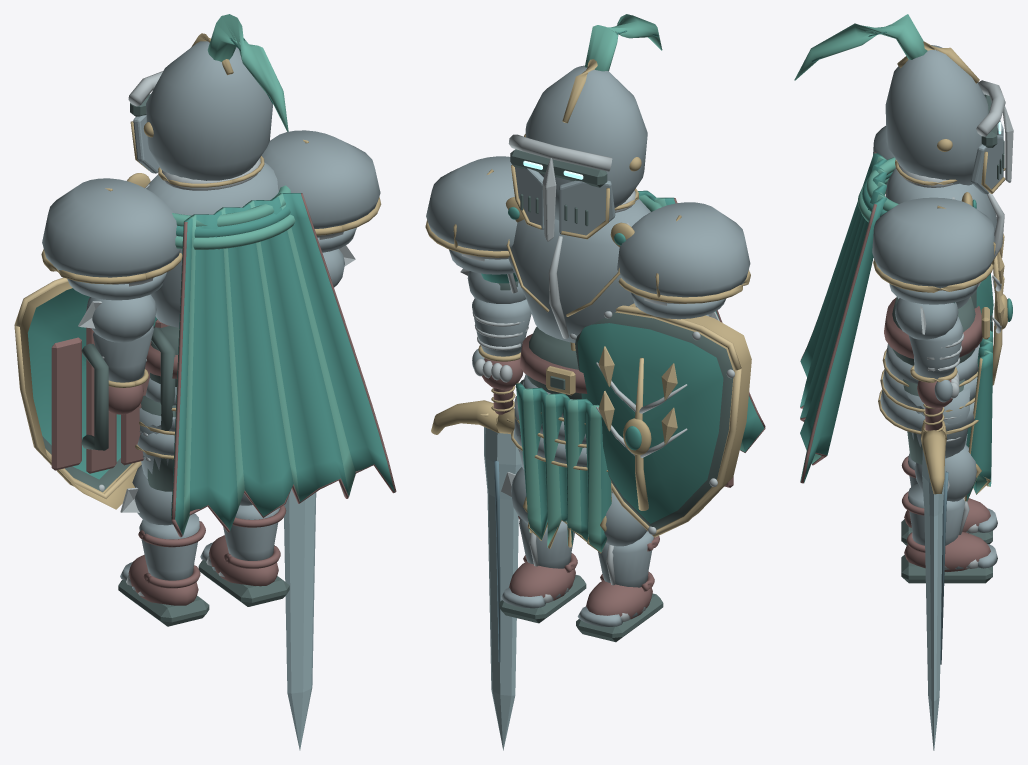
File: wayfarer.glb
3 renders of one model, left to right at view 1: azimuth 30°, elevation 25°; view 2: azimuth 150°, elevation 25°; view 3: azimuth 270°, elevation 25°, orthographic. The views are drawn at different scales.
Parts seen in each view (by area): view 1: Cape | crafted armor, Shield | crafted armor, Head | crafted armor, UpperArmL | crafted armor, Torso | crafted armor, UpperArmR | crafted armor, Moonsteel blade, ShinL | crafted armor, ForearmL | crafted armor, FootL | crafted armor, FootR | crafted armor, ShinR | crafted armor (+5 smaller); view 2: Shield | crafted armor, Head | crafted armor, UpperArmL | crafted armor, Torso | crafted armor, Tabard | crafted armor, UpperArmR | crafted armor, Moonsteel blade, Hips | crafted armor, ForearmR | crafted armor, ShinL | crafted armor, FootL | crafted armor, FootR | crafted armor (+5 smaller); view 3: Head | crafted armor, UpperArmR | crafted armor, Cape | crafted armor, Hips | crafted armor, ForearmR | crafted armor, Torso | crafted armor, Moonsteel blade, ShinR | crafted armor, FootR | crafted armor, Tabard | crafted armor, Plume | crafted armor, Sword | crafted armor (+5 smaller).
Part boxes in pixels (x1,y1,x2,y2): Cape | crafted armor: (171, 193, 396, 537); Shield | crafted armor: (14, 277, 175, 509); Head | crafted armor: (128, 33, 272, 180); UpperArmL | crafted armor: (41, 178, 182, 300); Torso | crafted armor: (127, 156, 295, 327); UpperArmR | crafted armor: (261, 130, 381, 252); Moonsteel blade: (284, 489, 316, 750); ShinL | crafted armor: (120, 465, 205, 588); ForearmL | crafted armor: (78, 294, 156, 387); FootL | crafted armor: (118, 554, 209, 626); FootR | crafted armor: (198, 535, 289, 606); ShinR | crafted armor: (223, 493, 286, 568); Shield | crafted armor: (569, 303, 751, 537); Head | crafted armor: (508, 59, 647, 241); UpperArmL | crafted armor: (617, 202, 750, 319); Torso | crafted armor: (506, 188, 661, 343); Tabard | crafted armor: (515, 382, 611, 553); UpperArmR | crafted armor: (425, 156, 517, 283); Moonsteel blade: (484, 427, 521, 750); Hips | crafted armor: (511, 327, 608, 471); ForearmR | crafted armor: (460, 268, 531, 361); ShinL | crafted armor: (598, 493, 659, 591); FootL | crafted armor: (576, 580, 663, 642); FootR | crafted armor: (499, 561, 586, 623); Head | crafted armor: (885, 41, 1013, 194); UpperArmR | crafted armor: (872, 197, 995, 304); Cape | crafted armor: (800, 152, 886, 483); Hips | crafted armor: (878, 296, 992, 434); ForearmR | crafted armor: (895, 298, 964, 382); Torso | crafted armor: (857, 157, 1004, 308); Moonsteel blade: (922, 449, 945, 750); ShinR | crafted armor: (902, 444, 981, 552); FootR | crafted armor: (901, 532, 997, 583); Tabard | crafted armor: (964, 320, 992, 501); Plume | crafted armor: (794, 14, 927, 80); Sword | crafted armor: (921, 403, 948, 664).
Size of the model in its own units: 1.23 by 2.65 by 0.7565.
